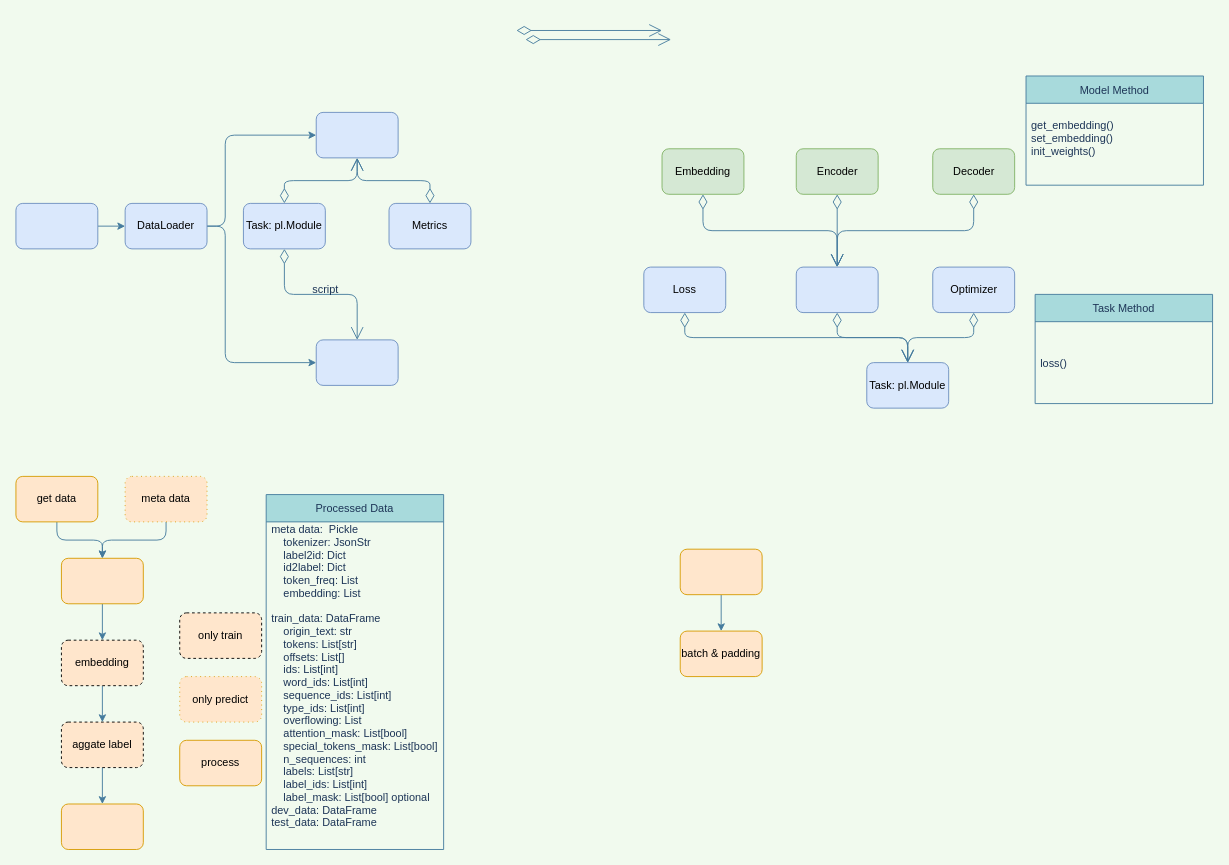
The diagram is 1229 pixels wide and 865 high, and some of its shapes have lost their labels. Here are the shapes that lost their labels. From the top down, the centre of each, then its label:
(356,134): Trainer
(56,225): Processor
(836,289): Model
(356,362): Online
(102,580): Tokenizer
(720,571): load data
(102,826): label2id
